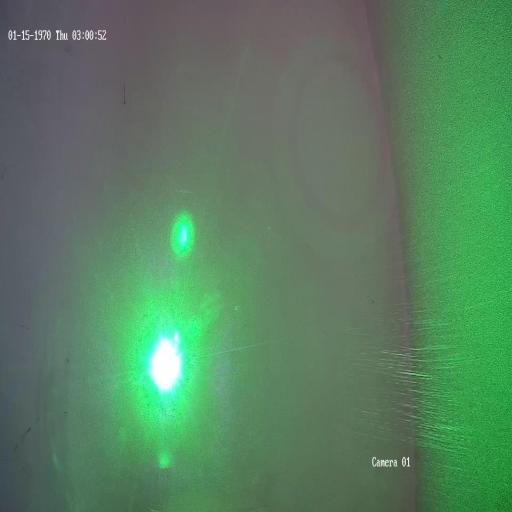laser: (138, 319, 192, 404)
